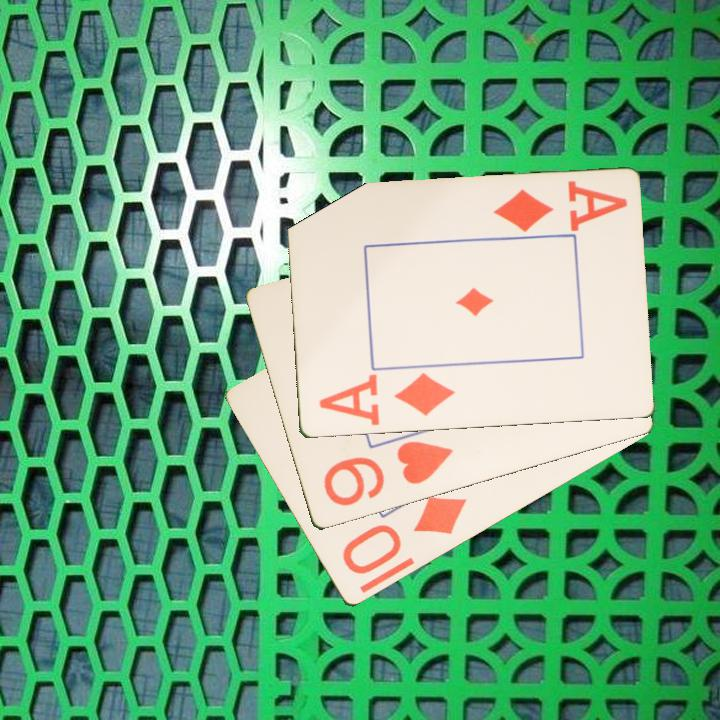10d: (338, 492, 470, 579)
9h: (319, 437, 456, 510)
Ad: (315, 370, 458, 429), (489, 177, 630, 235)
